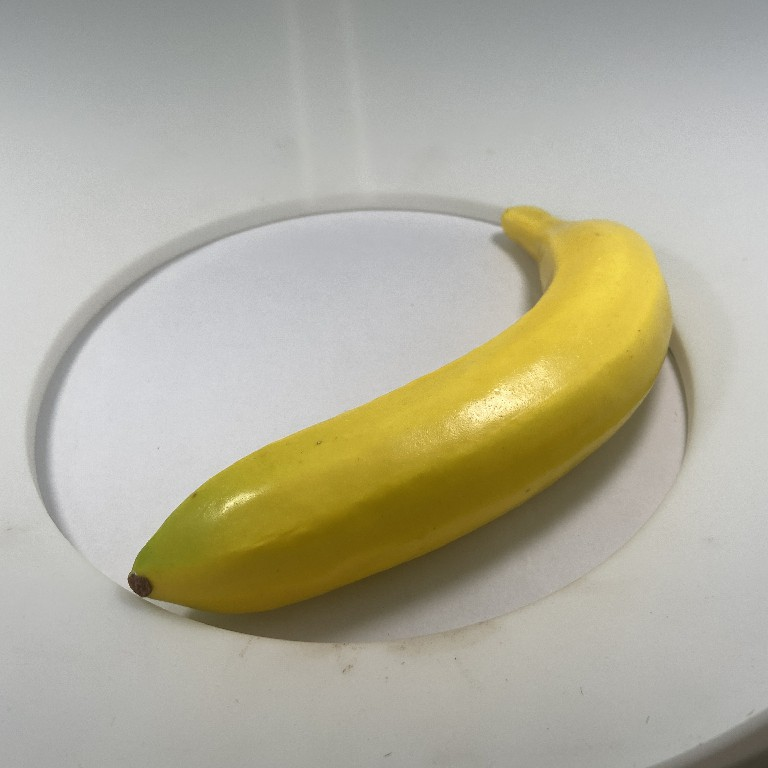fruit_banana: (120, 200, 675, 618)
